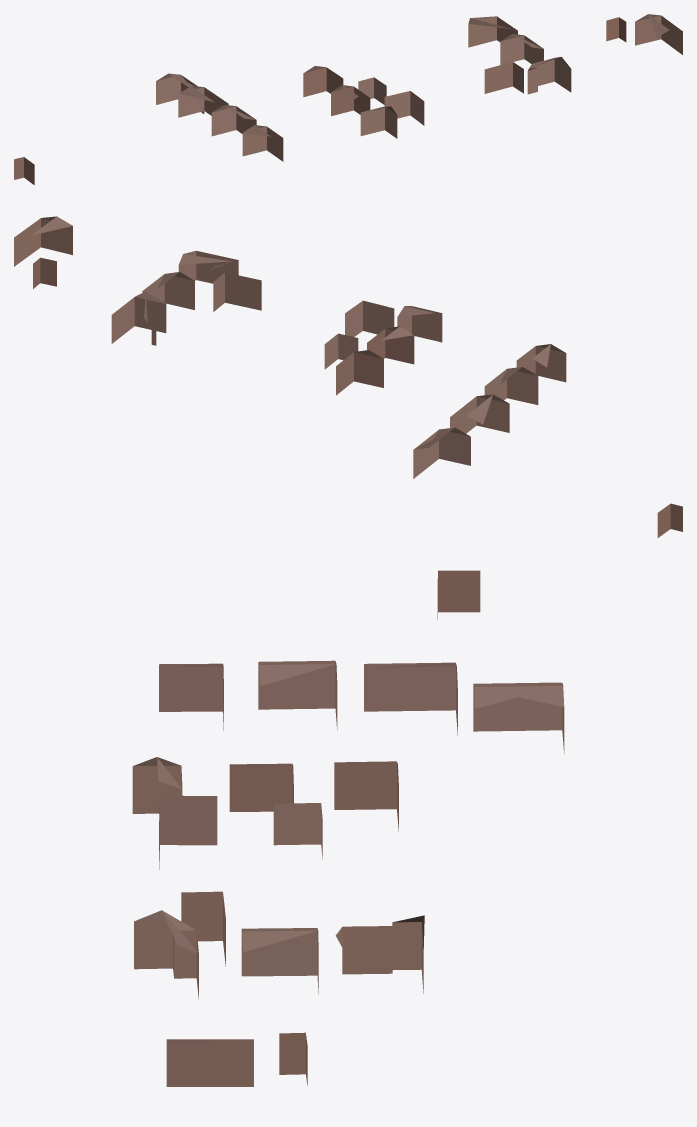
File: c_1638_17819_buildings_residential.glb
3 renders of one model, top to bottom at view 1: azimuth 30°, elevation 25°; view 2: azimuth 150°, elevation 25°; view 3: azimuth 270°, elevation 25°, orthographic. The views are drawn at different scales.
Parts seen in each view (by area): view 1: geometry_0; view 2: geometry_0; view 3: geometry_0.
Part boxes in pixels (x1=…): geometry_0: x1=14, y1=14, x2=682, y2=184; geometry_0: x1=14, y1=216, x2=682, y2=537; geometry_0: x1=132, y1=570, x2=564, y2=1086.
Size of the model in its own units: 238 by 25.59 by 75.26.
